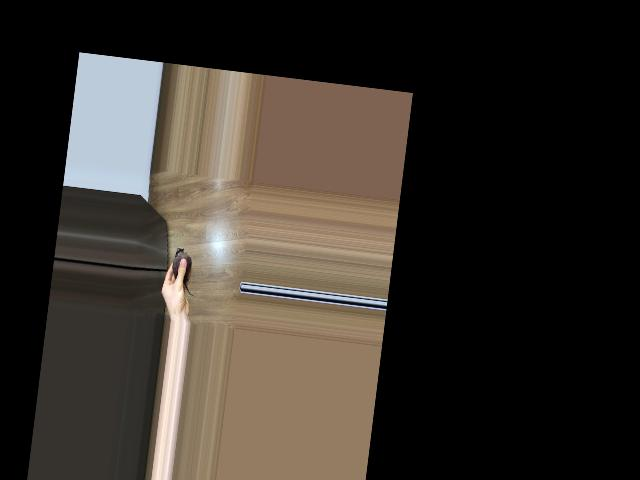beet: (169, 246, 199, 295)
